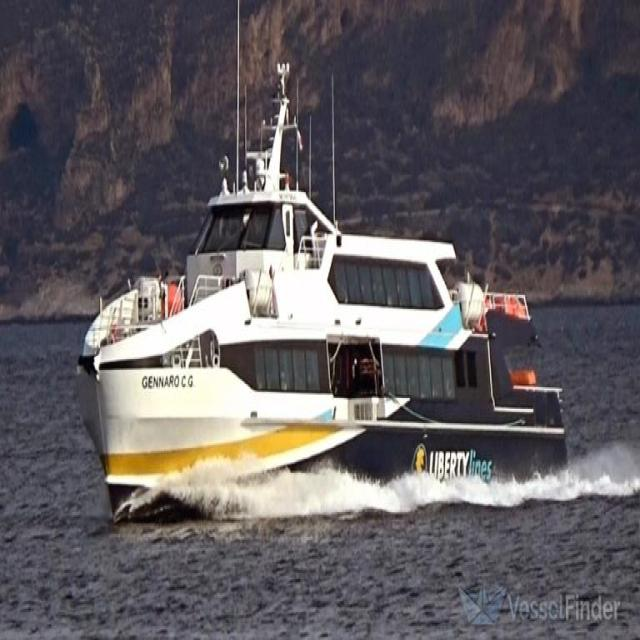PassengerShip: (68, 76, 610, 564)
